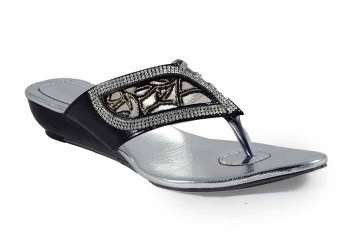Footwear: (22, 57, 332, 193)
